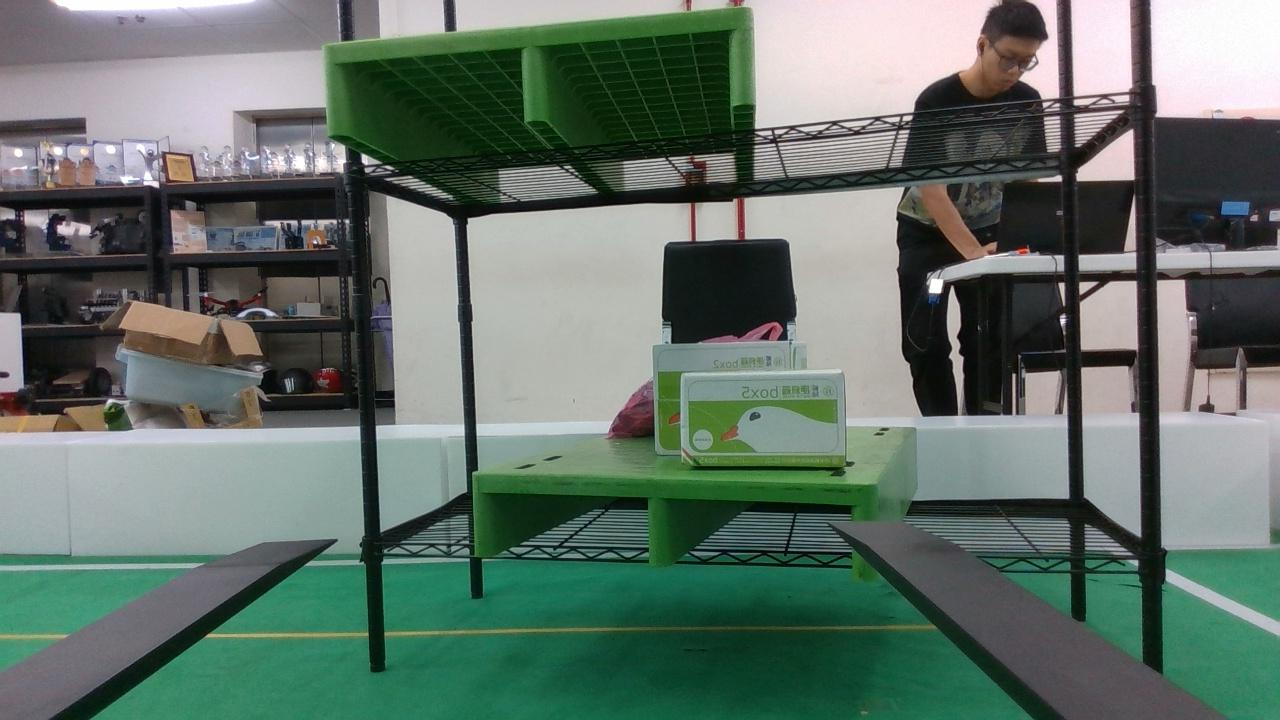Pallet: (320, 11, 760, 144), (465, 469, 879, 586)
